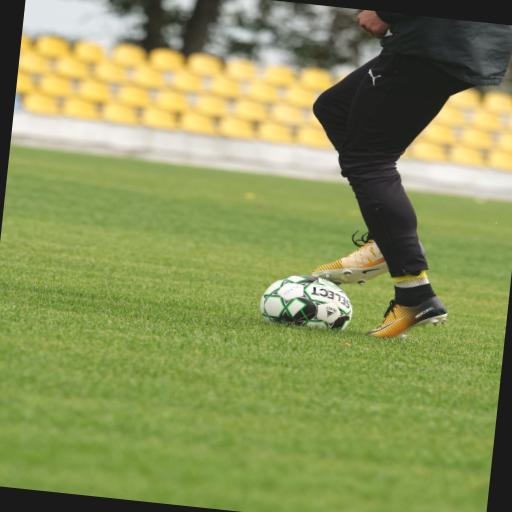shoe: (312, 239, 387, 285), (366, 297, 447, 338)
